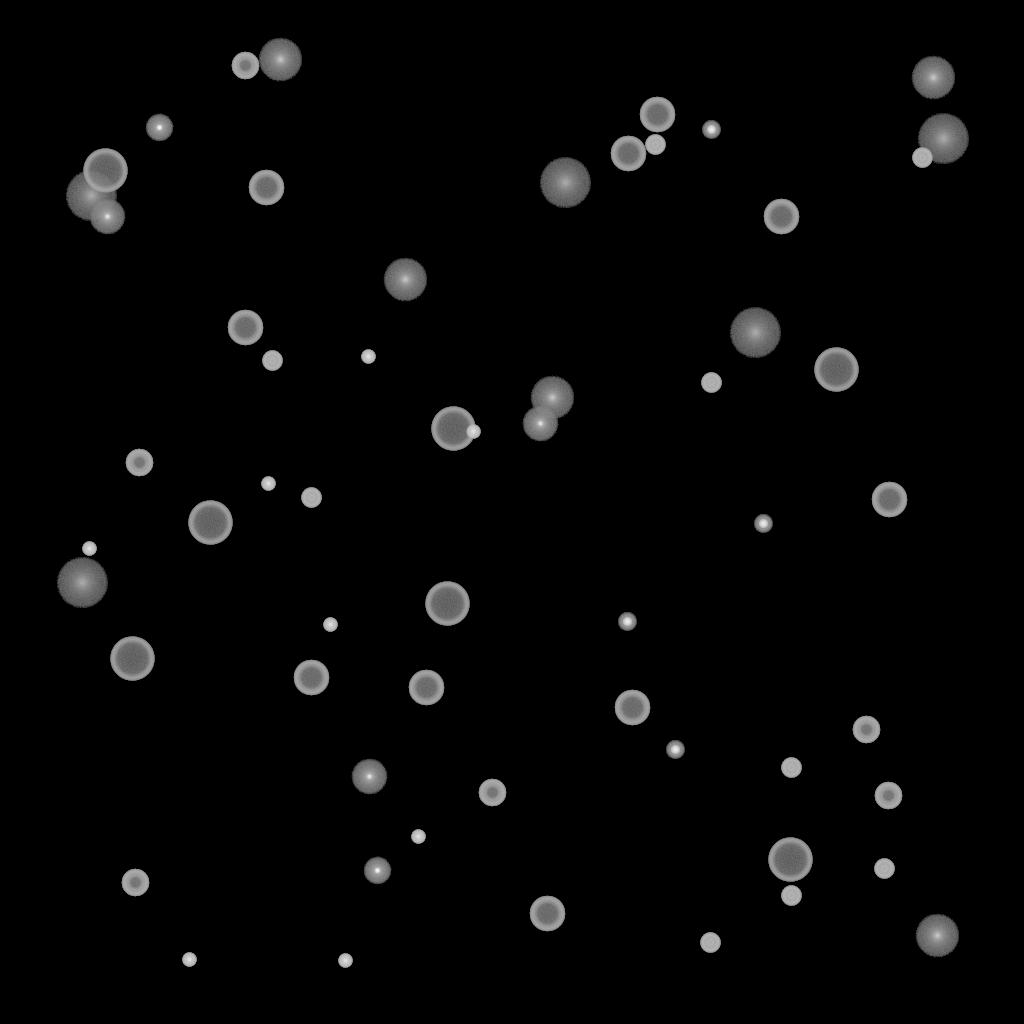depth:-10: (363, 857, 391, 885), (145, 114, 173, 142)
depth:-20: (666, 741, 684, 759), (618, 613, 636, 631), (754, 515, 772, 533), (702, 121, 720, 139)
depth:-30: (182, 953, 196, 967), (261, 477, 275, 491), (411, 830, 425, 844), (323, 618, 337, 632), (338, 954, 352, 968), (466, 425, 480, 439), (82, 542, 96, 556), (361, 350, 375, 364)
depth:-40: (781, 886, 801, 906), (645, 135, 665, 155), (781, 758, 801, 778), (700, 933, 720, 953), (874, 859, 894, 879), (301, 488, 321, 508), (262, 351, 282, 371), (912, 148, 932, 168), (701, 373, 721, 393)
depth:-50: (231, 52, 259, 80), (125, 449, 153, 477), (121, 869, 149, 897), (874, 782, 902, 810), (852, 716, 880, 744), (478, 779, 506, 807)
depth:-60: (529, 896, 565, 932), (293, 660, 329, 696), (639, 97, 675, 133), (763, 199, 799, 235), (610, 136, 646, 172), (227, 310, 263, 346), (614, 690, 650, 726), (408, 670, 444, 706), (248, 170, 284, 206), (871, 482, 907, 518)
depth:-70: (110, 637, 154, 681), (425, 582, 469, 626), (83, 149, 127, 193), (431, 407, 475, 451), (768, 838, 812, 882), (814, 348, 858, 392), (188, 501, 232, 545)
depth:0: (351, 759, 387, 795), (89, 199, 125, 235), (522, 406, 558, 442)
depth:10: (383, 258, 427, 302), (915, 914, 959, 958), (258, 38, 302, 82), (911, 56, 955, 100), (530, 376, 574, 420)
depth:20: (729, 308, 781, 358), (917, 114, 969, 164), (539, 158, 591, 208), (65, 171, 117, 221), (56, 558, 108, 608)
